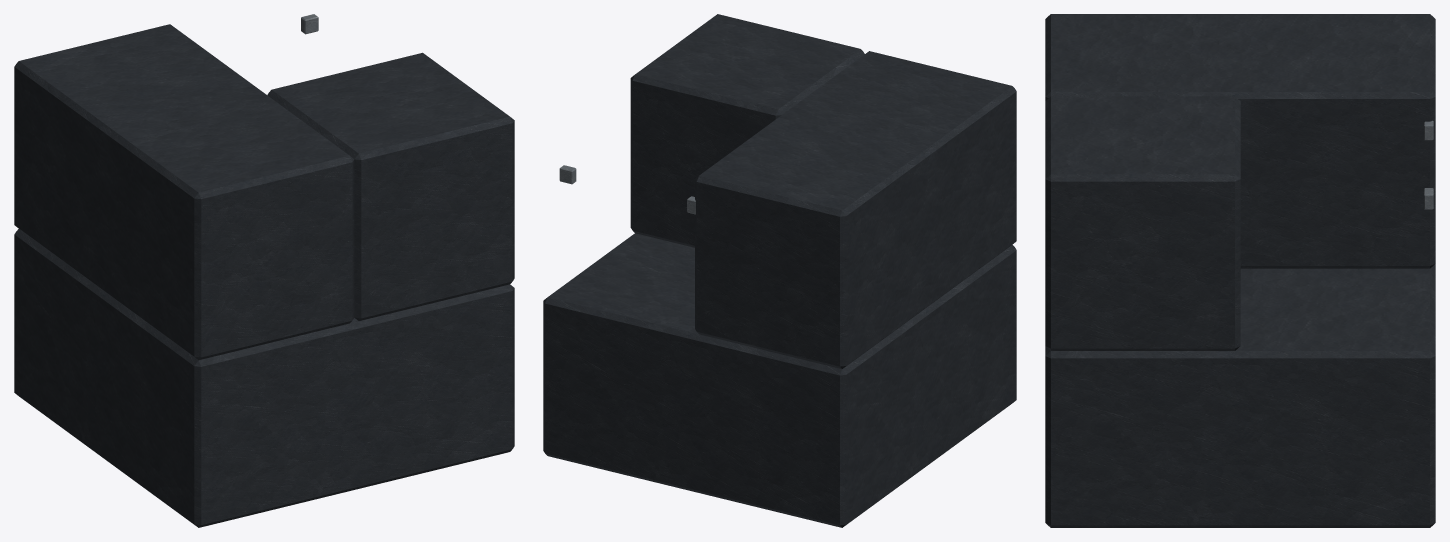
Rendered from train_black_iron_inner_corner.gltf.
The picture shows the model from 3 angles, left to right: view 1: azimuth 30°, elevation 25°; view 2: azimuth 150°, elevation 25°; view 3: azimuth 270°, elevation 25°; orthographic projection. The views are drawn at different scales.
Size of the model in its own units: 1 by 1 by 1.
2 materials, 2 textured.
